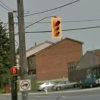Traffic light: (47, 12, 76, 42)
